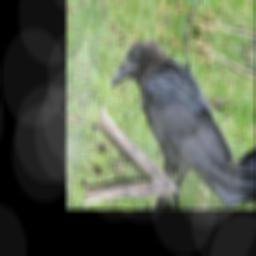Crow: (95, 26, 251, 208)
